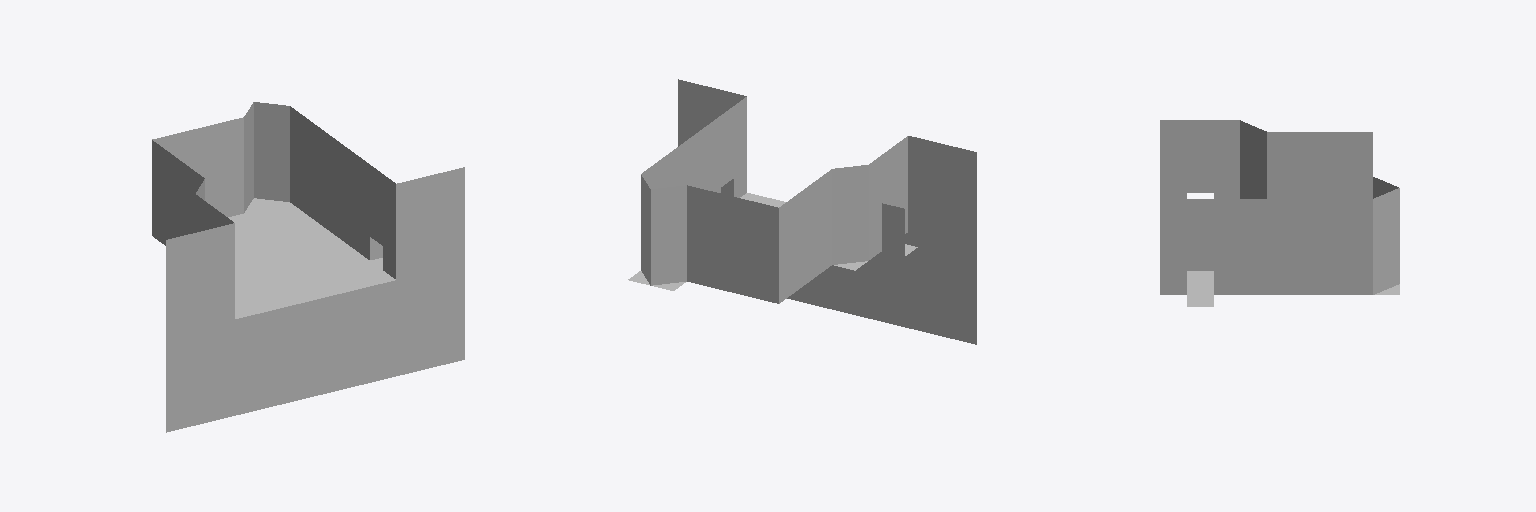
File: anna_office.obj
3 views of the same model, side by side, from view 1: azimuth 30°, elevation 25°; view 2: azimuth 150°, elevation 25°; view 3: azimuth 270°, elevation 25° (orthographic).
Parts seen in each view (by area): view 1: Plane; view 2: Plane; view 3: Plane.
Part boxes in pixels (bbox=[...]): Plane: bbox=[152, 102, 464, 432]; Plane: bbox=[628, 79, 976, 344]; Plane: bbox=[1160, 120, 1399, 306].
Size of the model in its own units: 13 by 8 by 9.